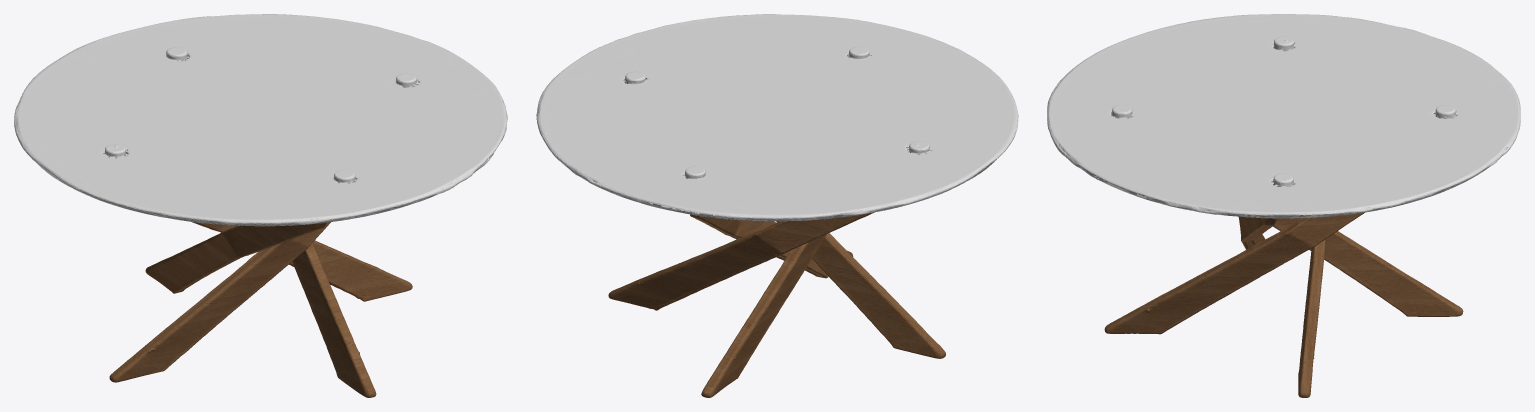
The model's file is glasstopcoffetab.glb.
3 views of the same model, side by side, from view 1: azimuth 30°, elevation 25°; view 2: azimuth 150°, elevation 25°; view 3: azimuth 270°, elevation 25° (orthographic). The views are drawn at different scales.
Visible parts, largest first — view 1: world.010; view 2: world.010; view 3: world.010.
Boxes of the visible parts, box(x1,y1,x2,y2) form: world.010: box(14, 14, 507, 397); world.010: box(536, 14, 1018, 397); world.010: box(1047, 14, 1520, 397).
Bounding box in the file's own units: 1 × 0.5042 × 1.
2 materials, 1 textured.
